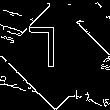L_S: (40, 30, 70, 80)
